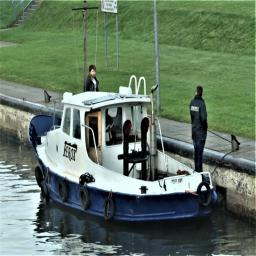tugboat: (26, 79, 221, 236)
